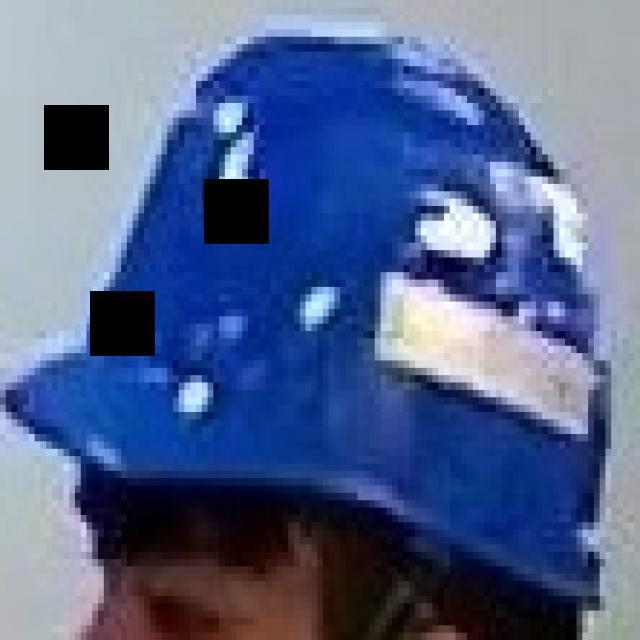blue helmet: (34, 39, 624, 571)
